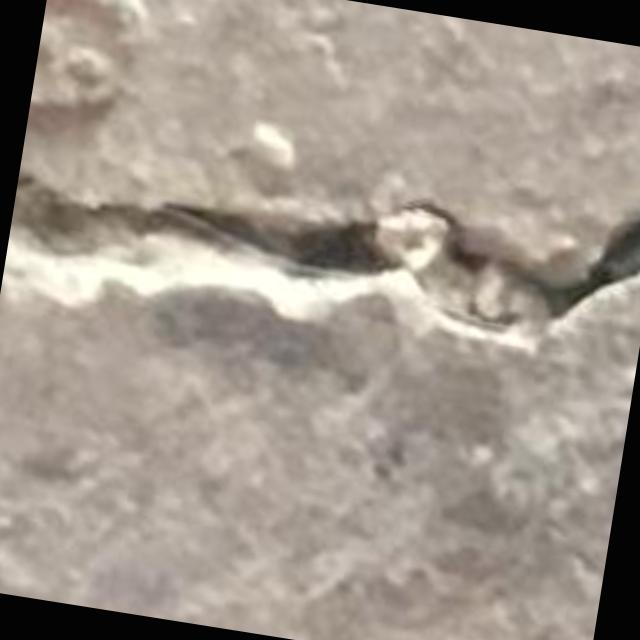crack: (0, 175, 639, 350)
